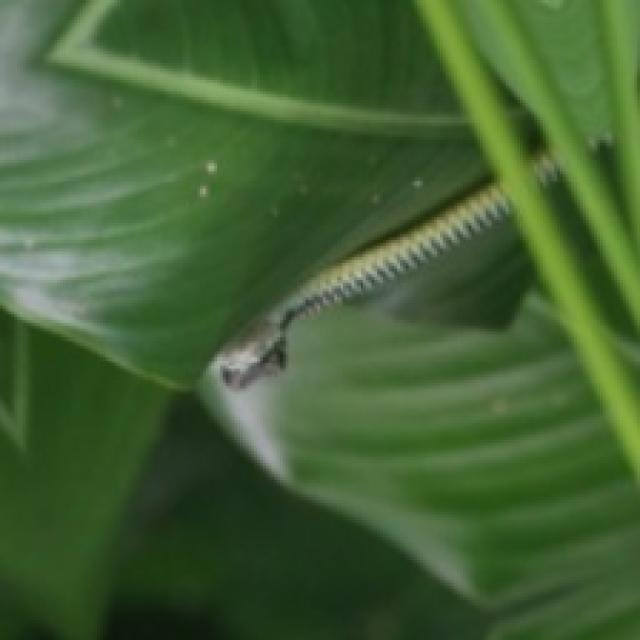paradise tree snake: (466, 0, 637, 329)
